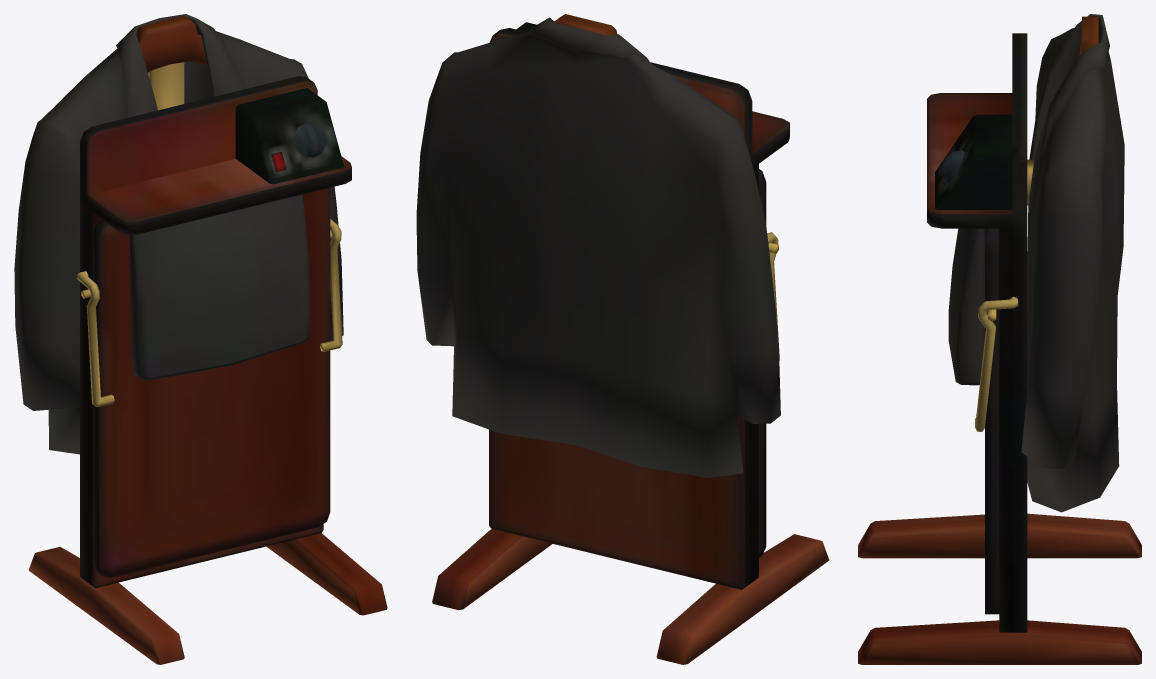
3 renders of one model, left to right at view 1: azimuth 30°, elevation 25°; view 2: azimuth 150°, elevation 25°; view 3: azimuth 270°, elevation 25°, orthographic. The views are drawn at different scales.
Bounding box in the file's own units: 6.02 × 9.76 × 4.35.
Materials: 1 (1 with a texture image).
